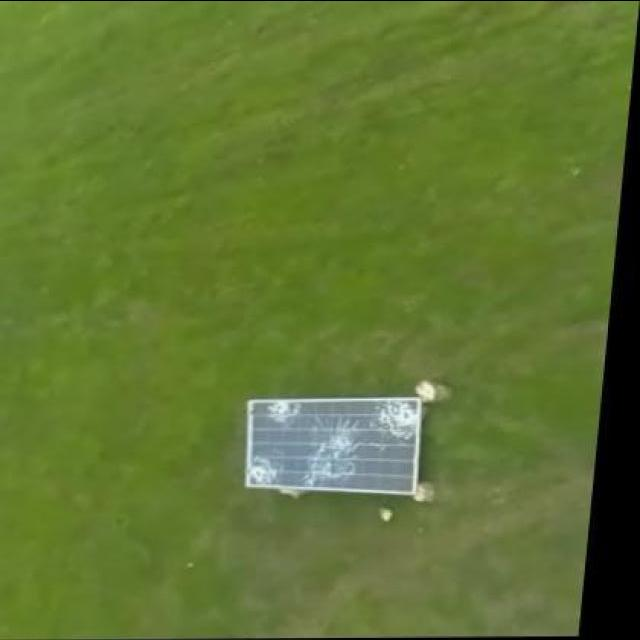cracked: (242, 393, 424, 494)
